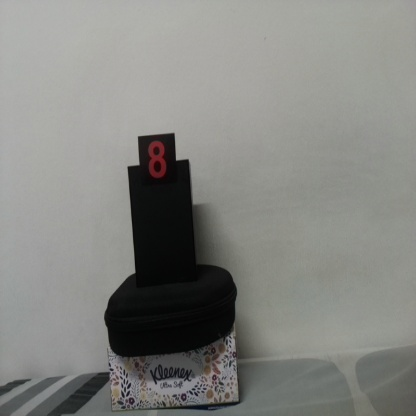id_8: (138, 137, 176, 192)
